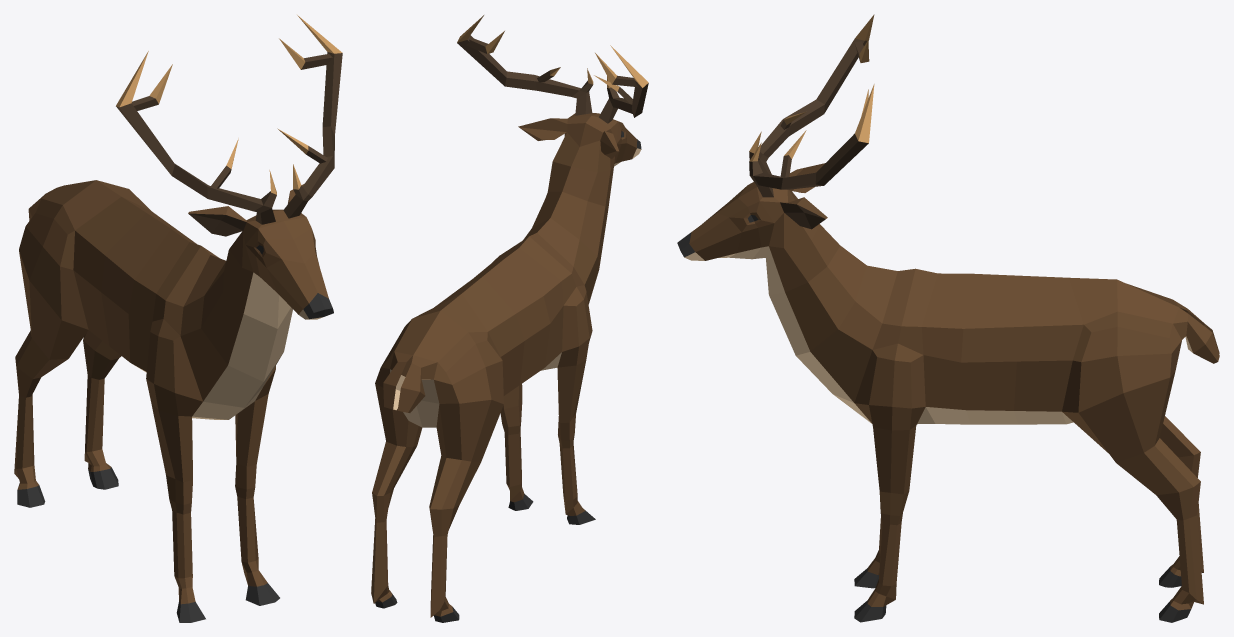
Rendered from deer.glb.
3 renders of one model, left to right at view 1: azimuth 30°, elevation 25°; view 2: azimuth 150°, elevation 25°; view 3: azimuth 270°, elevation 25°, orthographic. The views are drawn at different scales.
Visible parts, largest first — view 1: deer; view 2: deer; view 3: deer.
Part boxes in pixels (bbox=[...]): deer: bbox=[14, 15, 342, 622]; deer: bbox=[371, 15, 648, 622]; deer: bbox=[677, 14, 1219, 622].
Size of the model in its own units: 0.9934 by 2.44 by 2.18.
